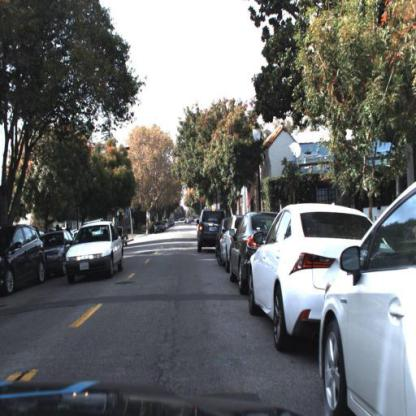car: (251, 202, 334, 352), (66, 220, 126, 285), (2, 224, 46, 300), (229, 213, 265, 293), (197, 212, 218, 252), (155, 220, 165, 235)
